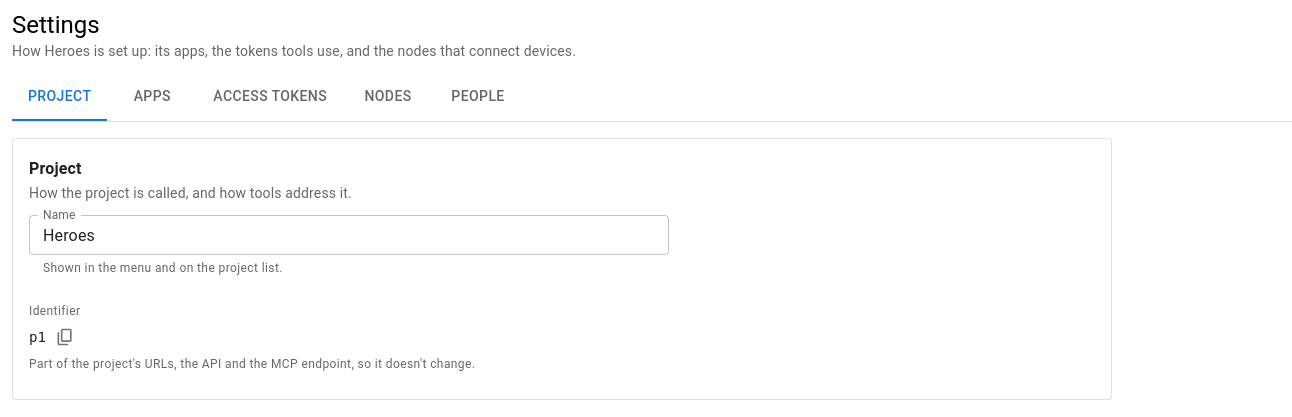
Test: Settings > Project: renames the project and shows the new name
Check: the button "Save" is not shown
Replace the text in the field labelled "Name" with " Renamed " at (349, 235), box [29,215,669,255]
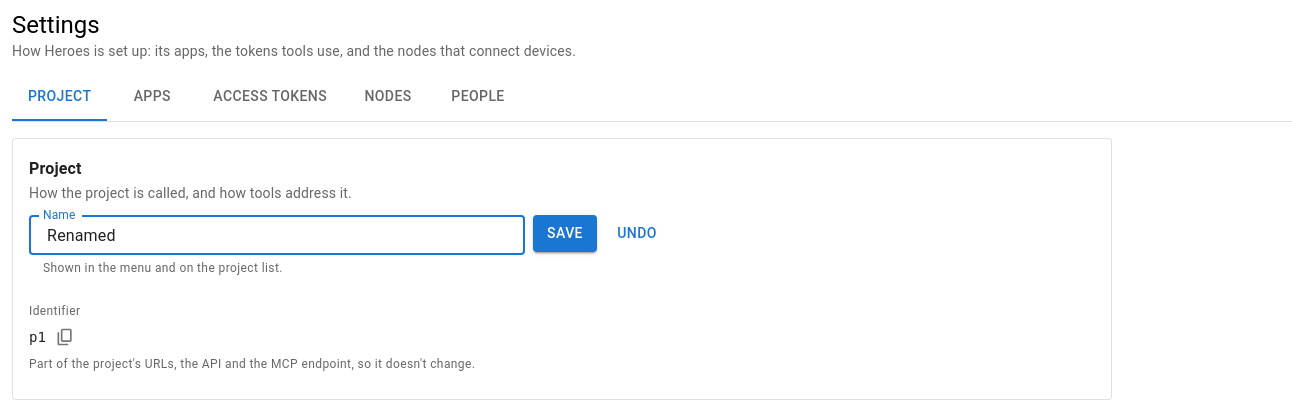
Click the button "Save".
click(565, 233)  # box [533,215,597,252]
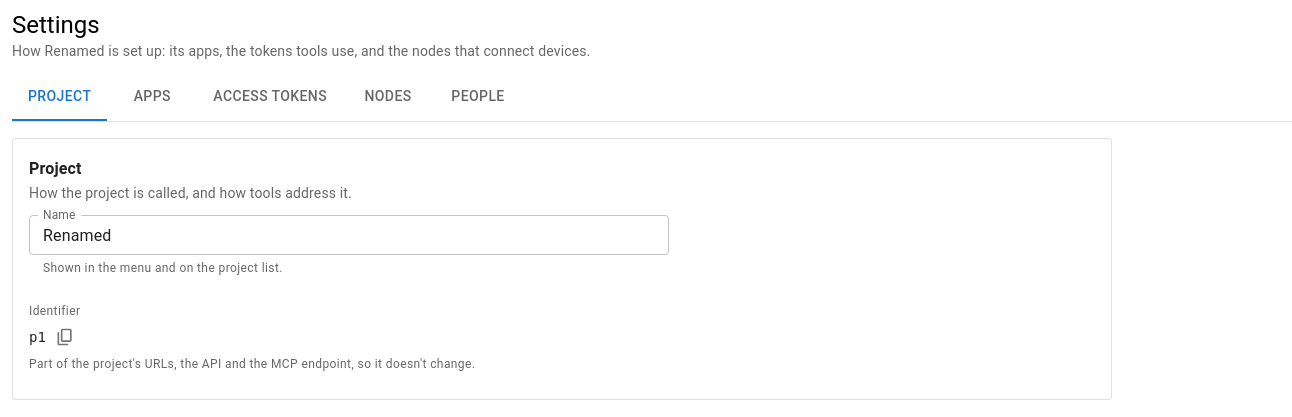
Check: the text "How Renamed is set up" is shown, box [12,43,590,59]
Check: the button "Save" is gone
